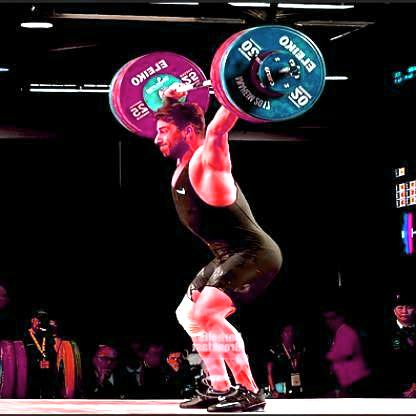Barbell: (283, 62, 301, 80)
